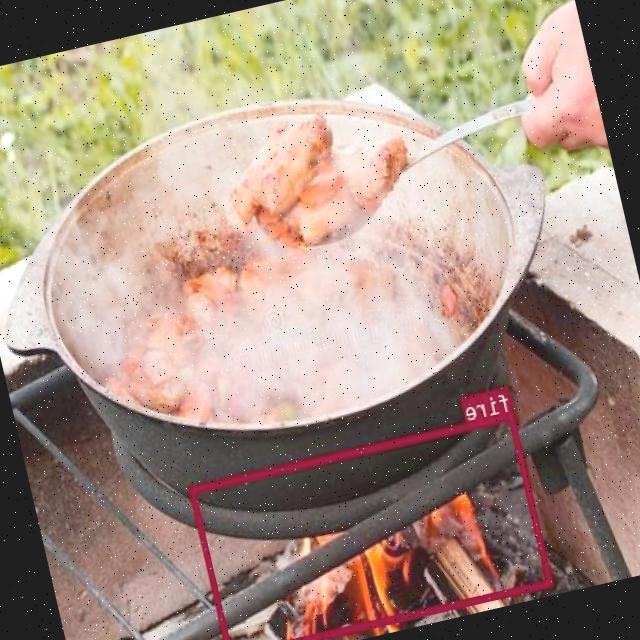fire: (189, 411, 554, 640)
